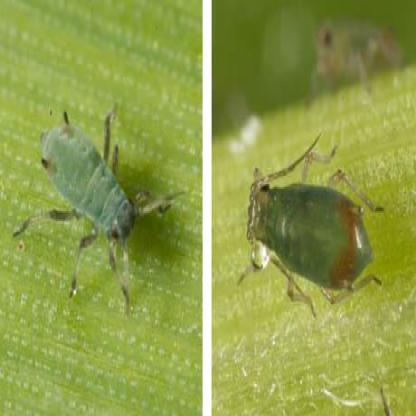aphid: (26, 90, 168, 309), (245, 149, 382, 321)
